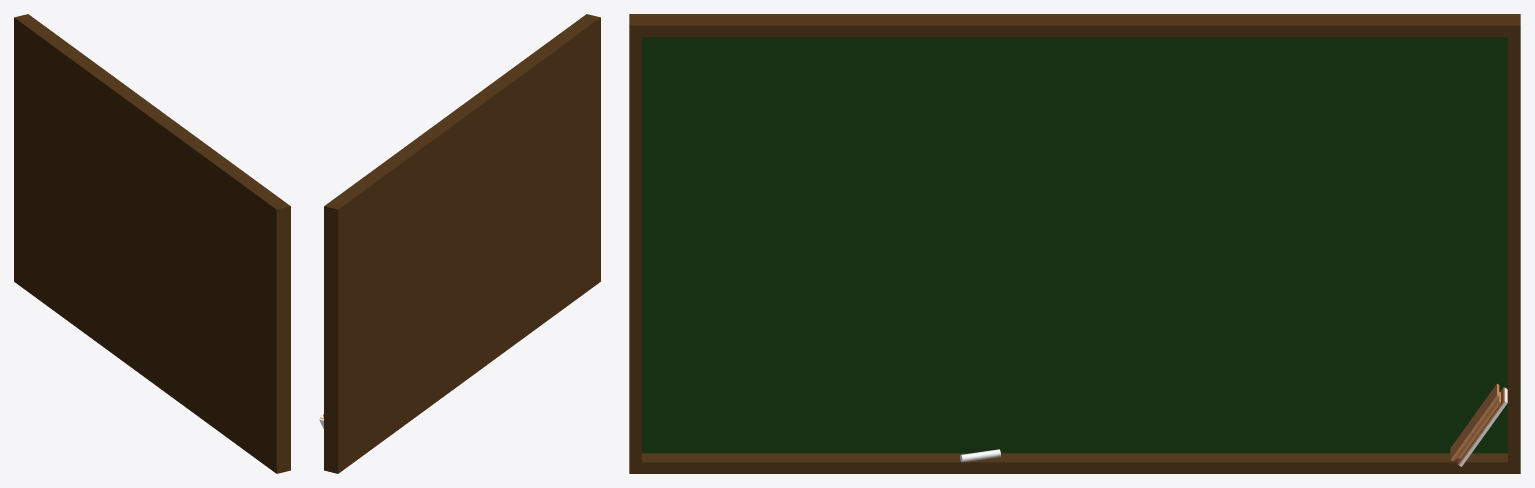
The model's file is chalckboard.fbx.
3 views of the same model, side by side, from view 1: azimuth 30°, elevation 25°; view 2: azimuth 150°, elevation 25°; view 3: azimuth 270°, elevation 25° (orthographic). The views are drawn at different scales.
Parts seen in each view (by area): view 1: Cube; view 2: Cube; view 3: Cube.
Part boxes in pixels (x1,y1,x2,y2): Cube: (14,14,290,473); Cube: (319,14,600,473); Cube: (629,14,1520,473).
Bounding box in the file's own units: 82.01 × 893 × 1609.
